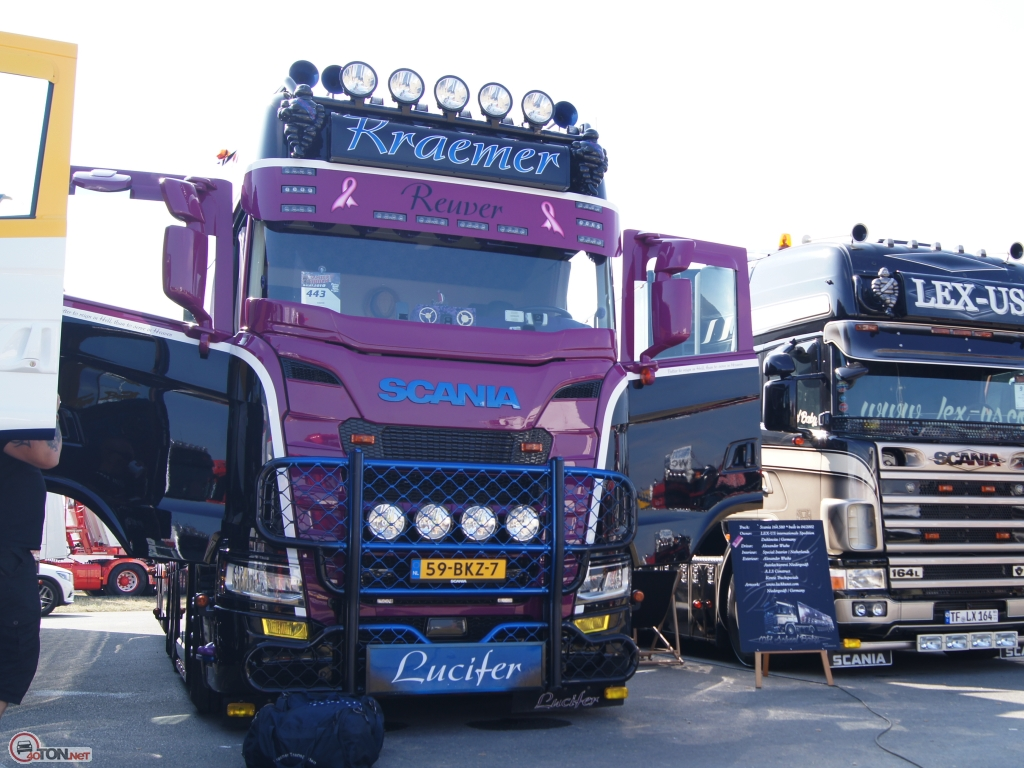tablica: (406, 557, 507, 580), (940, 608, 997, 623)
